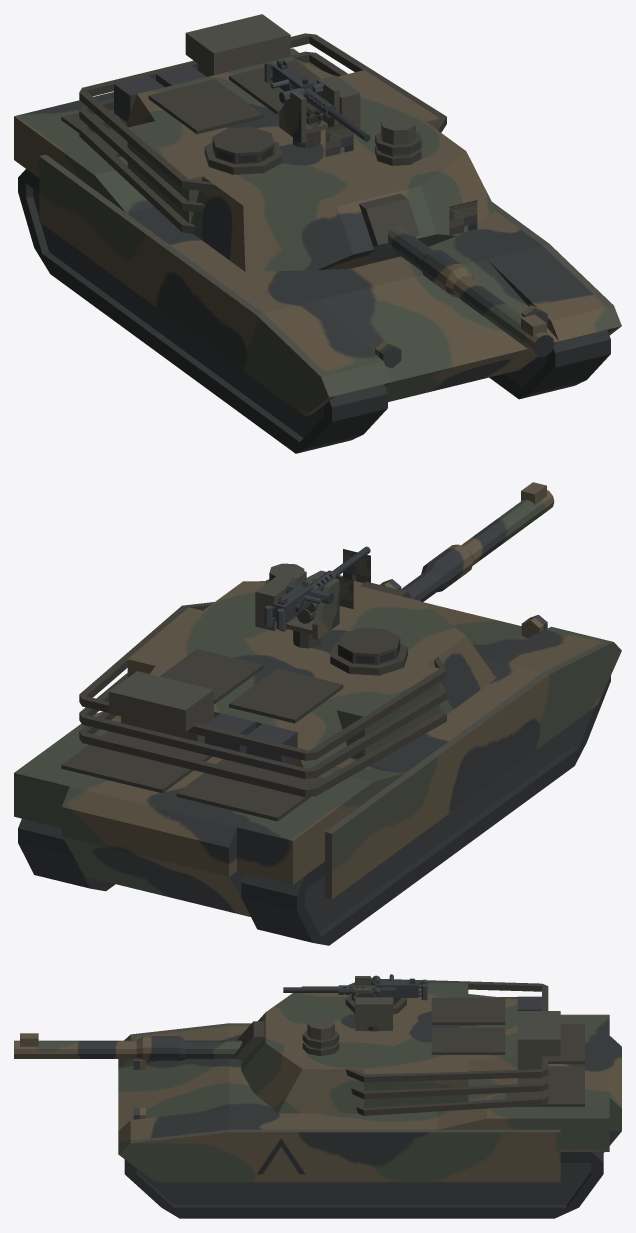
Rendered from M1A2-Abrams.glb.
3 renders of one model, top to bottom at view 1: azimuth 30°, elevation 25°; view 2: azimuth 150°, elevation 25°; view 3: azimuth 270°, elevation 25°, orthographic. The views are drawn at different scales.
Visible parts, largest first — view 1: M1A2_0, M1A2_Turret, M1A2_Gun, M1A2_Crows_Turret, M1A2_Crows_Gun, M1A2_Crosshair, M1A2_Crows_Crosshair; view 2: M1A2_0, M1A2_Turret, M1A2_Gun, M1A2_Crows_Turret, M1A2_Crows_Gun, M1A2_Crosshair; view 3: M1A2_0, M1A2_Turret, M1A2_Gun, M1A2_Crows_Turret, M1A2_Crows_Gun.
Part boxes in pixels (x1,y1,x2,y2): M1A2_0: (14,48,621,453); M1A2_Turret: (79,14,496,271); M1A2_Gun: (359,193,554,356); M1A2_Crows_Turret: (279,75,360,148); M1A2_Crows_Gun: (264,58,370,141); M1A2_Crosshair: (449,200,477,235); M1A2_Crows_Crosshair: (325,121,353,156); M1A2_0: (14,570,621,945); M1A2_Turret: (79,563,496,797); M1A2_Gun: (360,482,554,602); M1A2_Crows_Turret: (255,570,339,648); M1A2_Crows_Gun: (264,546,370,629); M1A2_Crosshair: (343,549,370,582); M1A2_0: (118,1014,621,1218); M1A2_Turret: (241,979,560,1115); M1A2_Gun: (14,1021,264,1060); M1A2_Crows_Turret: (353,976,392,1031); M1A2_Crows_Gun: (283,974,427,1000).
Size of the model in its own units: 5.27 by 4.21 by 12.38.
3 materials, 3 textured.
